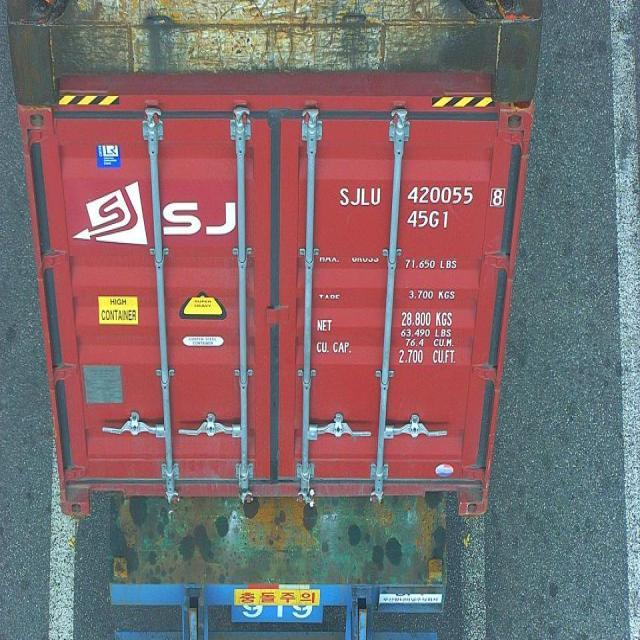ISO: (408, 208, 449, 226)
container_number: (338, 185, 499, 205)
